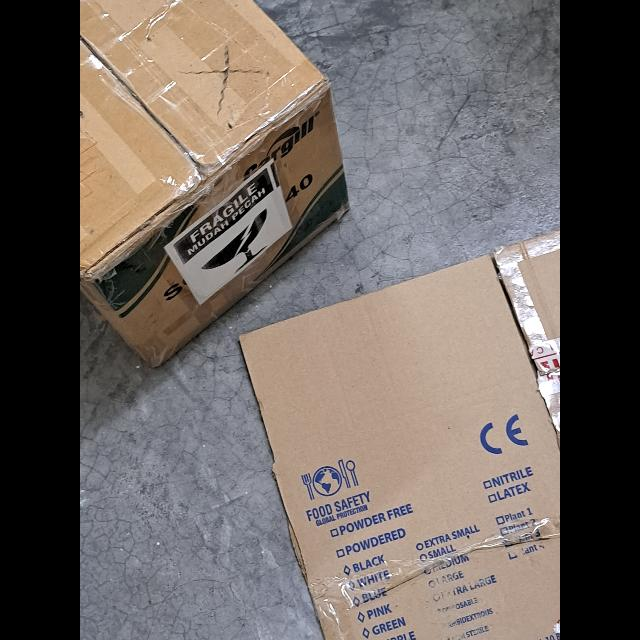papelão: (238, 230, 560, 640), (80, 1, 348, 366)
